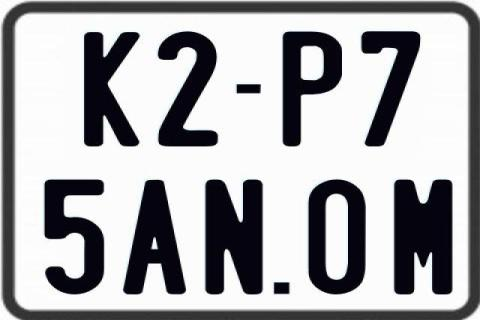0: (158, 29, 222, 149), (360, 31, 425, 148), (41, 178, 103, 294), (308, 178, 368, 294)
A: (122, 178, 187, 296)
K: (82, 32, 140, 149)
M: (393, 178, 455, 296)
N: (204, 178, 263, 298)
P: (281, 31, 341, 146)
